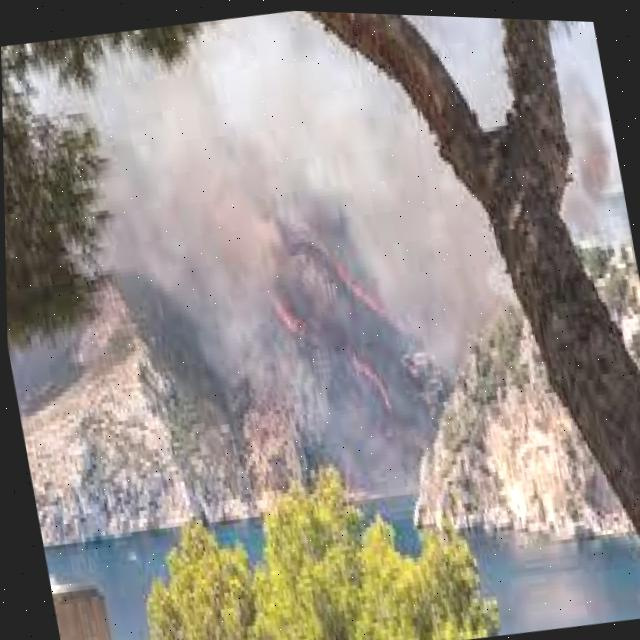smoke: (32, 9, 514, 381), (551, 16, 629, 237), (403, 12, 511, 125)
